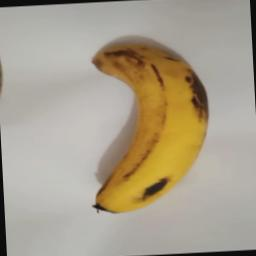Banana Unripe: (79, 34, 219, 218)
